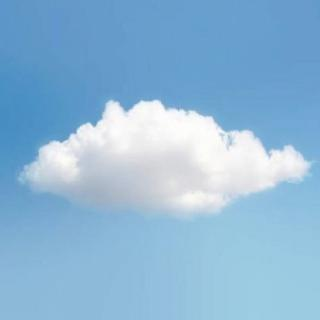Cumulus: (0, 1, 320, 294)
